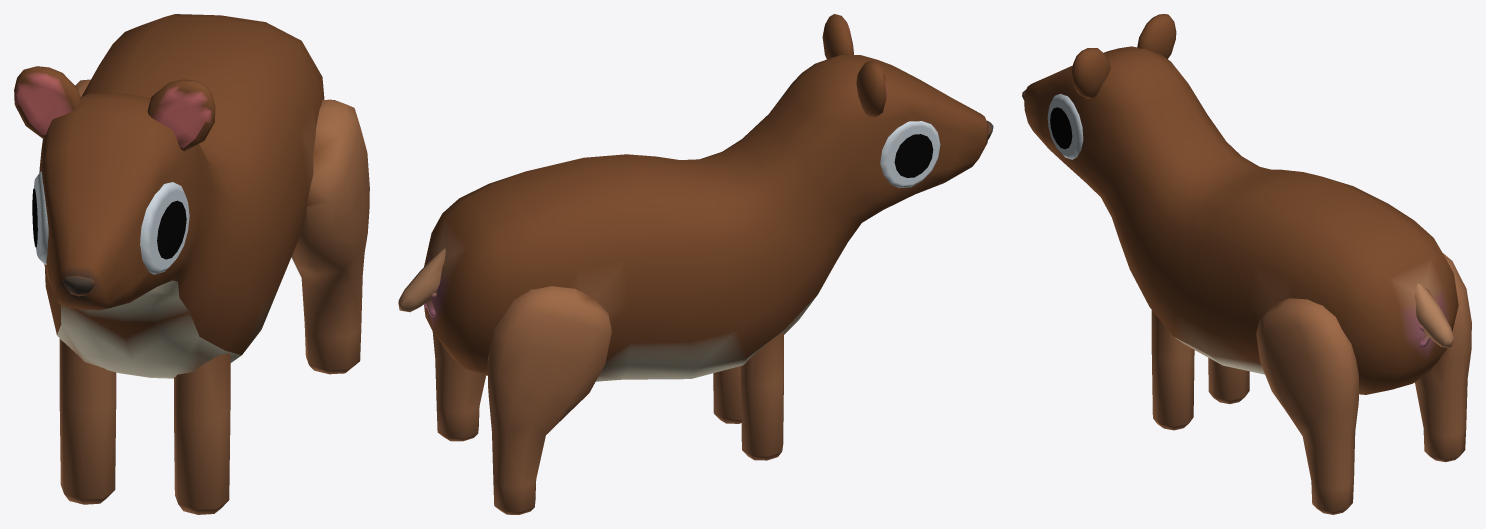
Rendered from Mousedeer.glb.
3 views of the same model, side by side, from view 1: azimuth 30°, elevation 25°; view 2: azimuth 150°, elevation 25°; view 3: azimuth 270°, elevation 25° (orthographic). The views are drawn at different scales.
Parts seen in each view (by area): view 1: 106; view 2: 106; view 3: 106.
Boxes of the visible parts, x1,y1,x2,y2 form: 106: (14, 14, 369, 514); 106: (398, 14, 993, 514); 106: (1022, 14, 1471, 514).
Size of the model in its own units: 0.8053 by 0.7412 by 0.8614.
